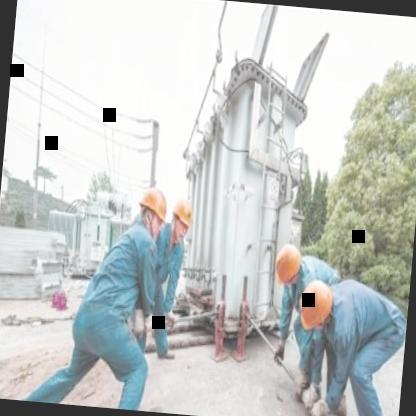helmet: (295, 275, 337, 336), (134, 182, 170, 239), (272, 238, 306, 291), (167, 190, 196, 245)
